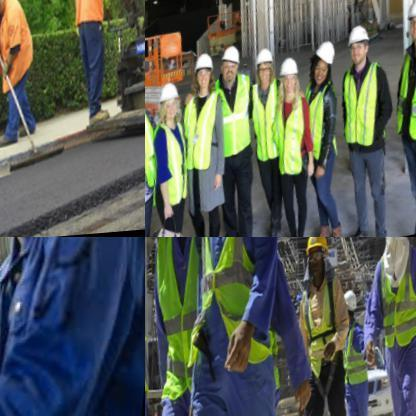vest: (183, 237, 302, 380), (145, 237, 229, 409), (339, 61, 399, 163), (298, 276, 355, 377), (211, 72, 267, 167), (155, 113, 206, 217), (372, 244, 415, 361), (182, 88, 235, 179), (270, 95, 321, 187), (249, 79, 297, 171), (0, 3, 48, 93), (145, 243, 170, 413), (302, 79, 348, 171), (389, 39, 415, 154), (145, 104, 173, 201), (343, 320, 379, 390), (70, 0, 119, 33)
